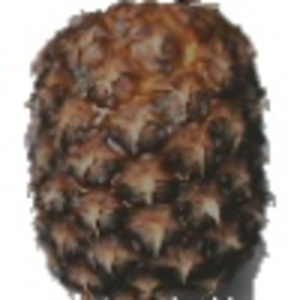abacaxi: (17, 2, 271, 292)
